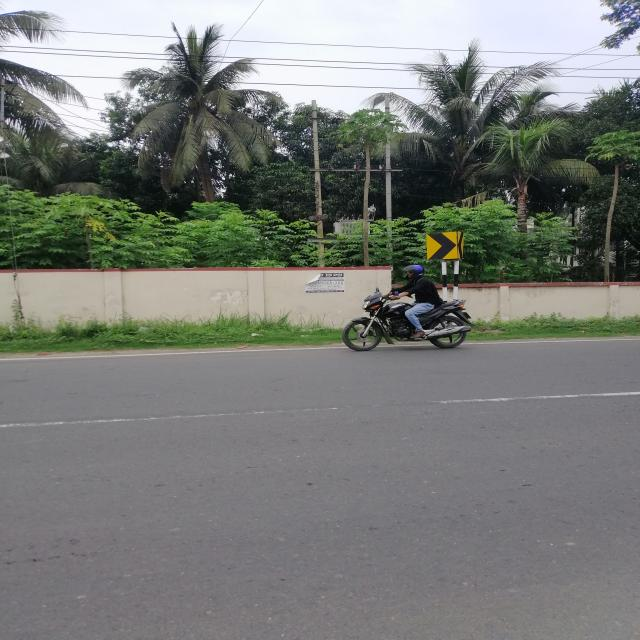Motorbike: (340, 285, 474, 359)
